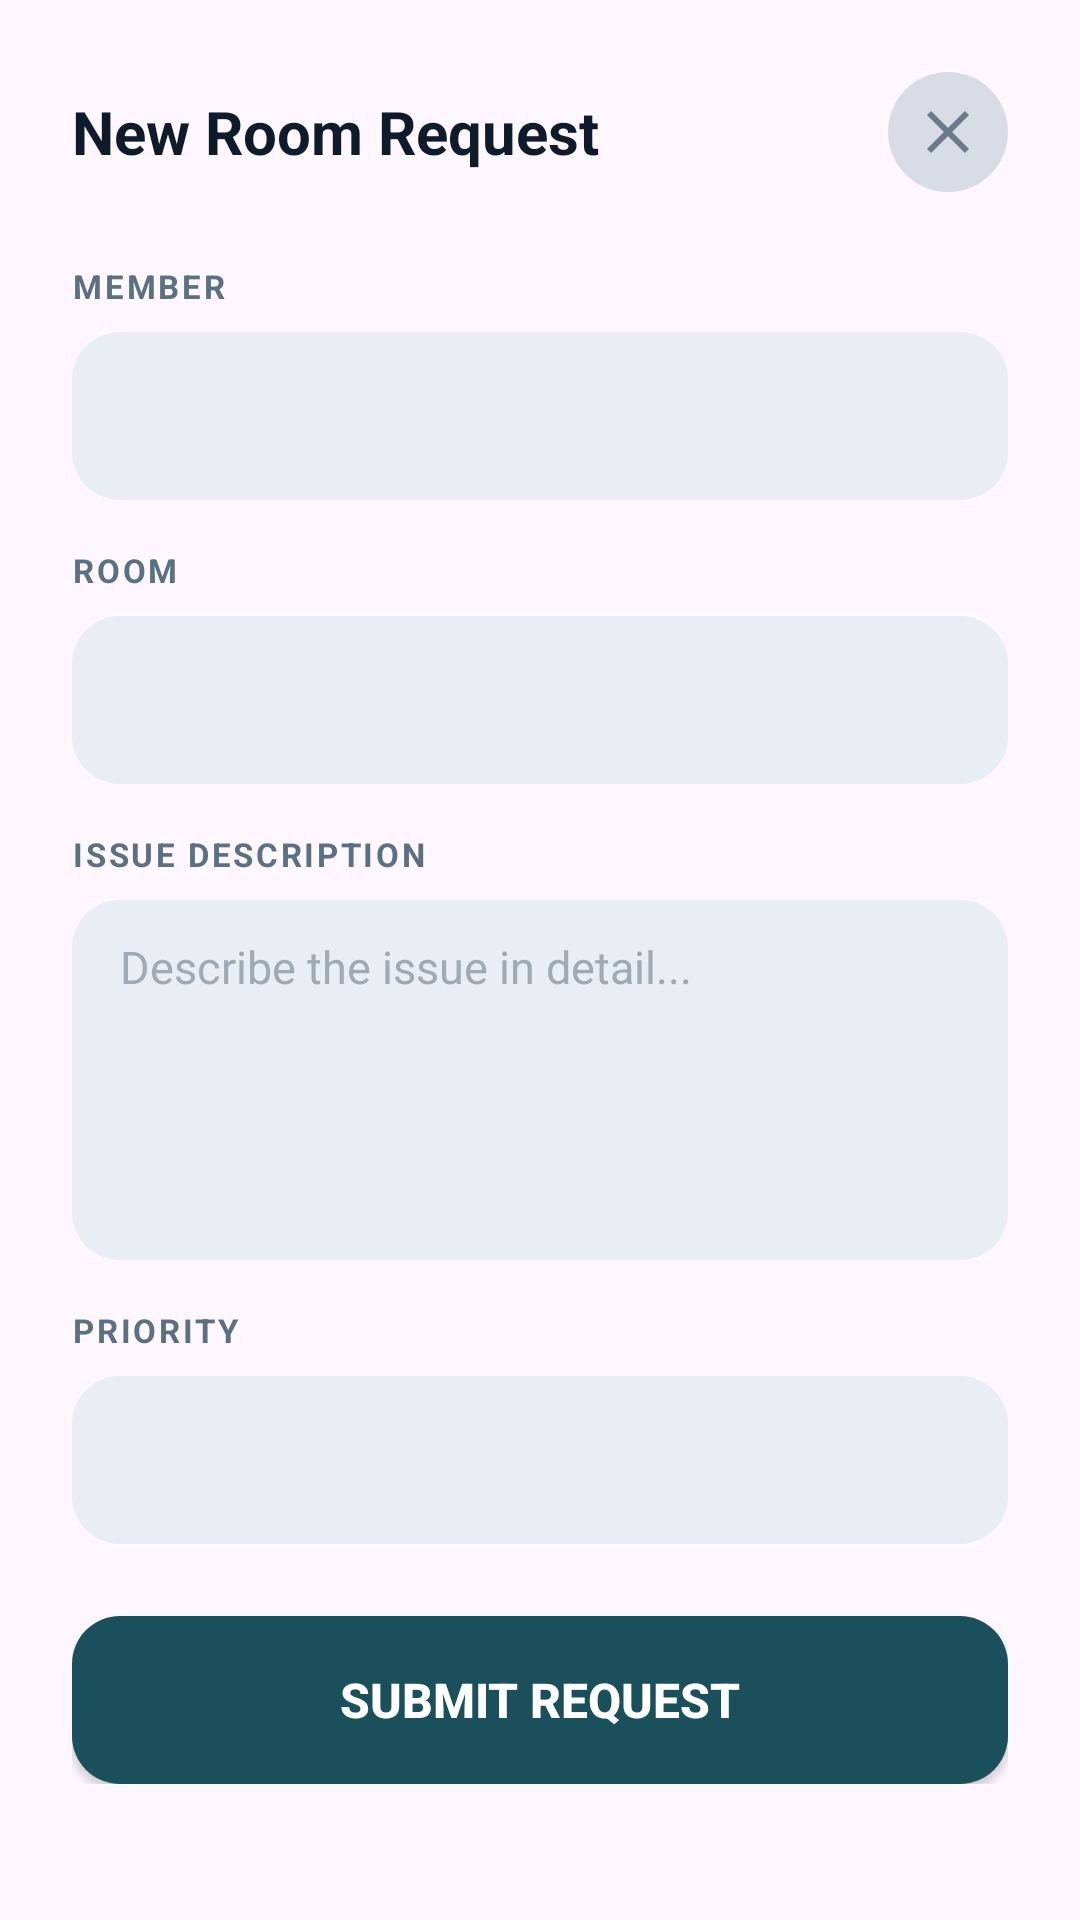

Icon bounding boxes for this 1080w x 1920h phone screenshot, format bbox(x1, y1, x2, y2):
Close: bbox(888, 72, 1008, 192)
